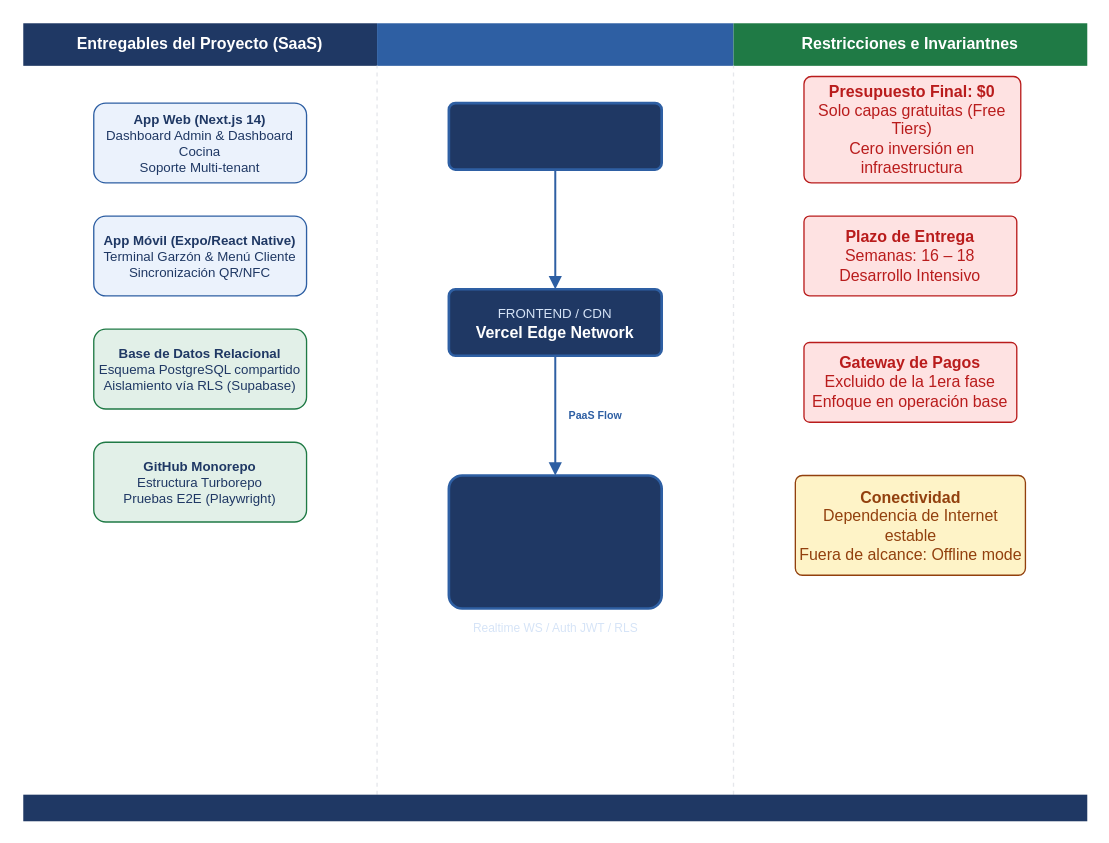
Image size: 1109x843. Some labels were removed from this diagram. Here are the shapes that lost their labels. From the top down, the centre of each, then its label:
point (554, 44): Arquitectura Cloud PaaS
point (554, 135): MONOREPO HUB Turborepo Workspace
point (554, 541): BACKEND AS A SERVICE Supabase Core
point (555, 807): Menu Bytes Strategy Map · 2025 · TPY1101 · Corporate Vision
